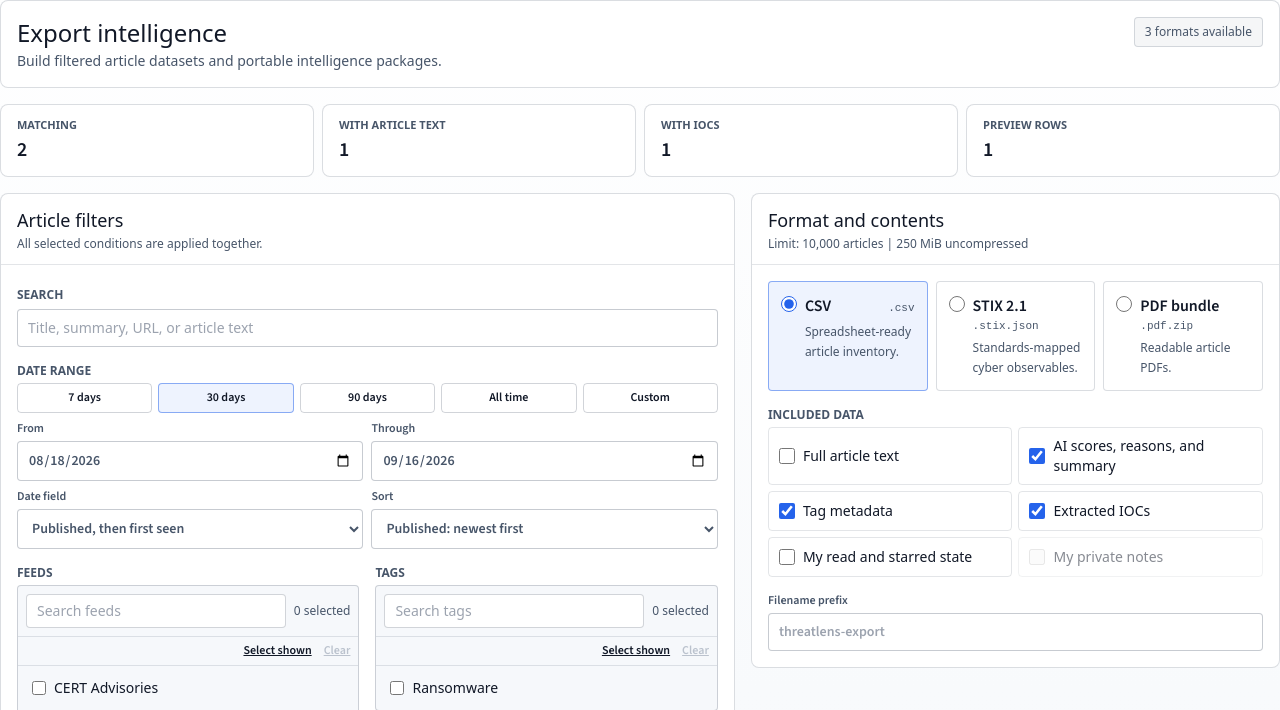
Test: ExportPage › loads format-specific options and limits
The width and height of the screenshot is (1280, 710).
Click the radio button labelled "PDF bundle .pdf.zip Readable article PDFs." at (1124, 304), box [1116,296,1132,312]
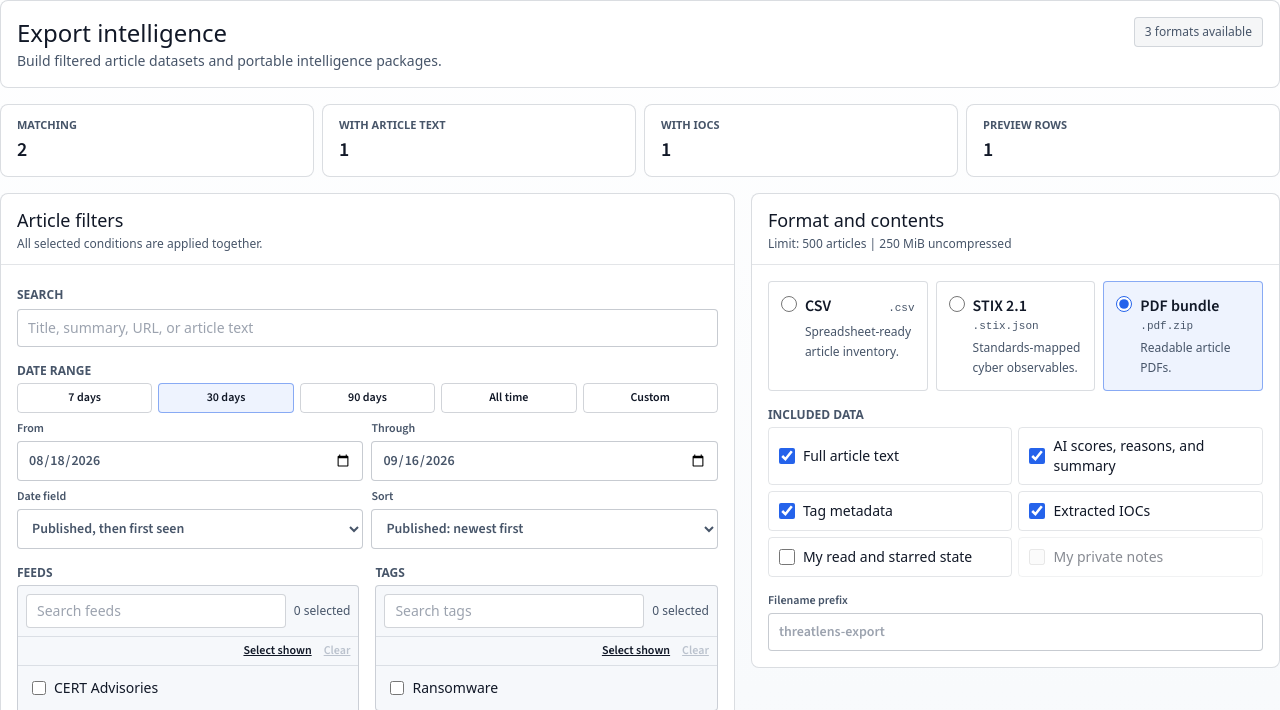
Expected: the text "Full article text" is shown, [803,446,899,466]
Now the text "Limit: 500 articles" is shown, box [768,234,1012,252]
